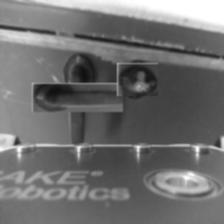Door Handle: (47, 68, 108, 128)
Lock: (119, 61, 156, 98)
